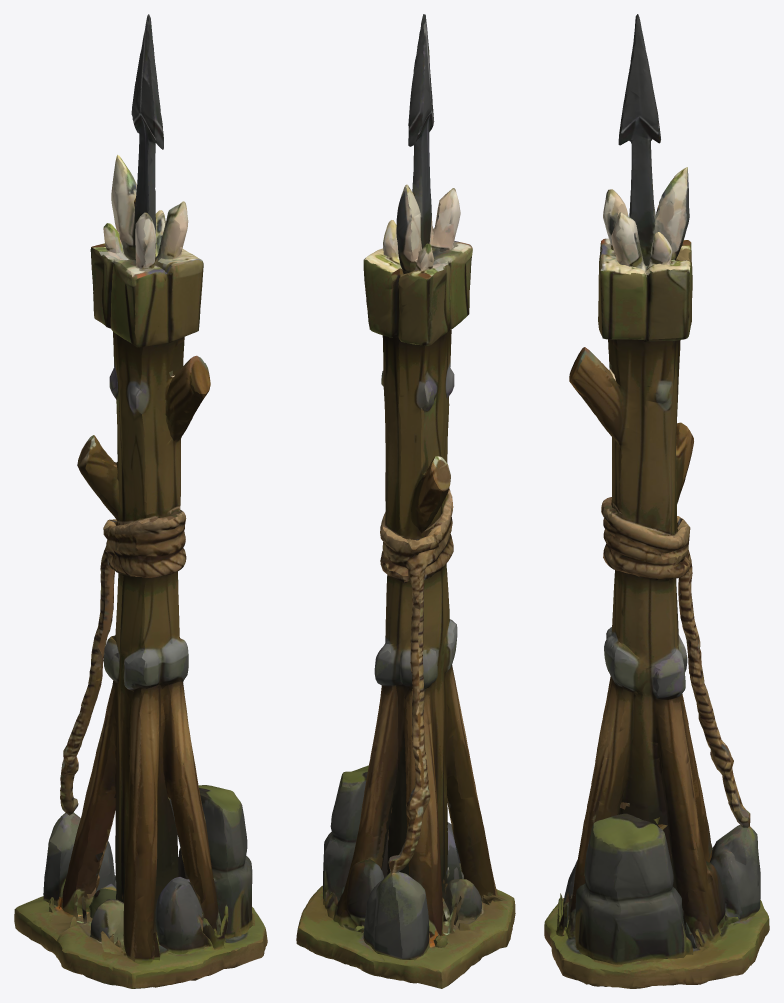
The model's file is struct_lightning_rod.glb.
3 renders of one model, left to right at view 1: azimuth 30°, elevation 25°; view 2: azimuth 150°, elevation 25°; view 3: azimuth 270°, elevation 25°, orthographic. The views are drawn at different scales.
Parts seen in each view (by area): view 1: struct_lightning_rod; view 2: struct_lightning_rod; view 3: struct_lightning_rod.
Boxes of the visible parts, left/top/right/bottom form: struct_lightning_rod: left=14, top=14, right=267, bottom=988; struct_lightning_rod: left=296, top=14, right=515, bottom=988; struct_lightning_rod: left=544, top=14, right=769, bottom=988.
Bounding box in the file's own units: 0.677 × 3.2 × 0.7042.
Materials: 1 (1 with a texture image).
